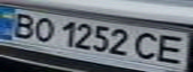1: (54, 18, 78, 48)
2: (109, 26, 133, 59), (72, 20, 93, 52)
5: (90, 24, 112, 55)
B: (3, 10, 42, 38)
C: (130, 29, 163, 63)
E: (151, 32, 190, 65)
O: (27, 15, 57, 43)
